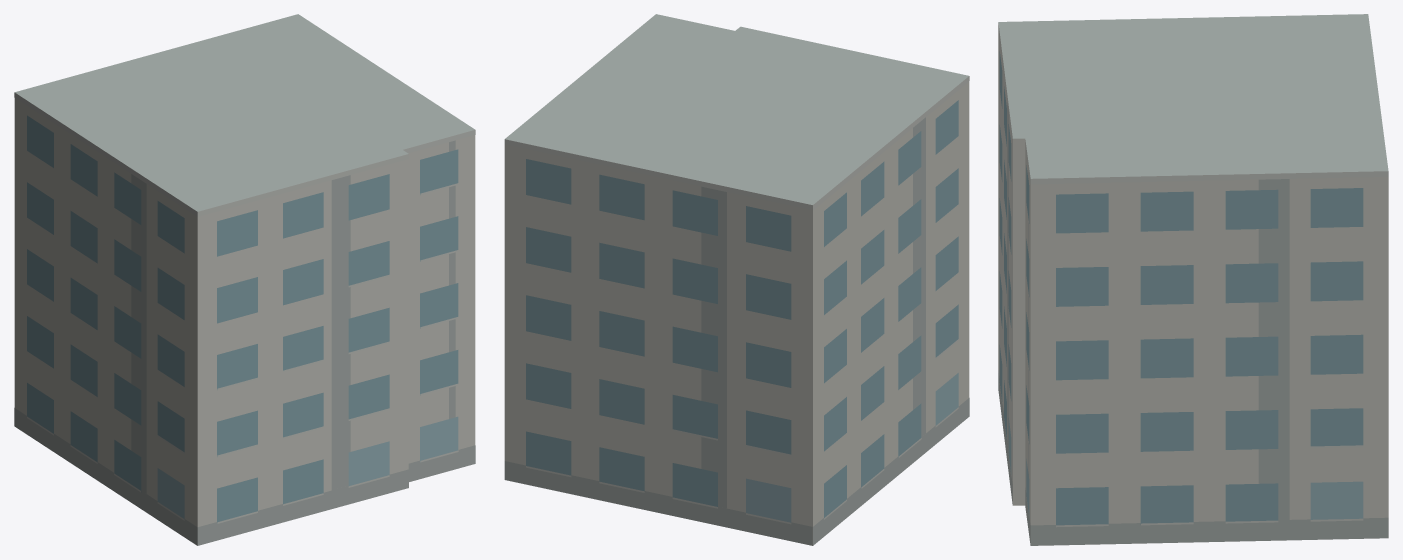
File: survey-upis-32552198.glb
3 renders of one model, left to right at view 1: azimuth 30°, elevation 25°; view 2: azimuth 150°, elevation 25°; view 3: azimuth 270°, elevation 25°, orthographic. The views are drawn at different scales.
Parts seen in each view (by area): view 1: survey-upis-32552198.tmp; view 2: survey-upis-32552198.tmp; view 3: survey-upis-32552198.tmp.
Boxes of the visible parts, x1,y1,x2,y2 form: survey-upis-32552198.tmp: (14, 14, 475, 545); survey-upis-32552198.tmp: (504, 14, 969, 545); survey-upis-32552198.tmp: (998, 14, 1388, 545).
Size of the model in its own units: 15.13 by 15.7 by 15.14.
